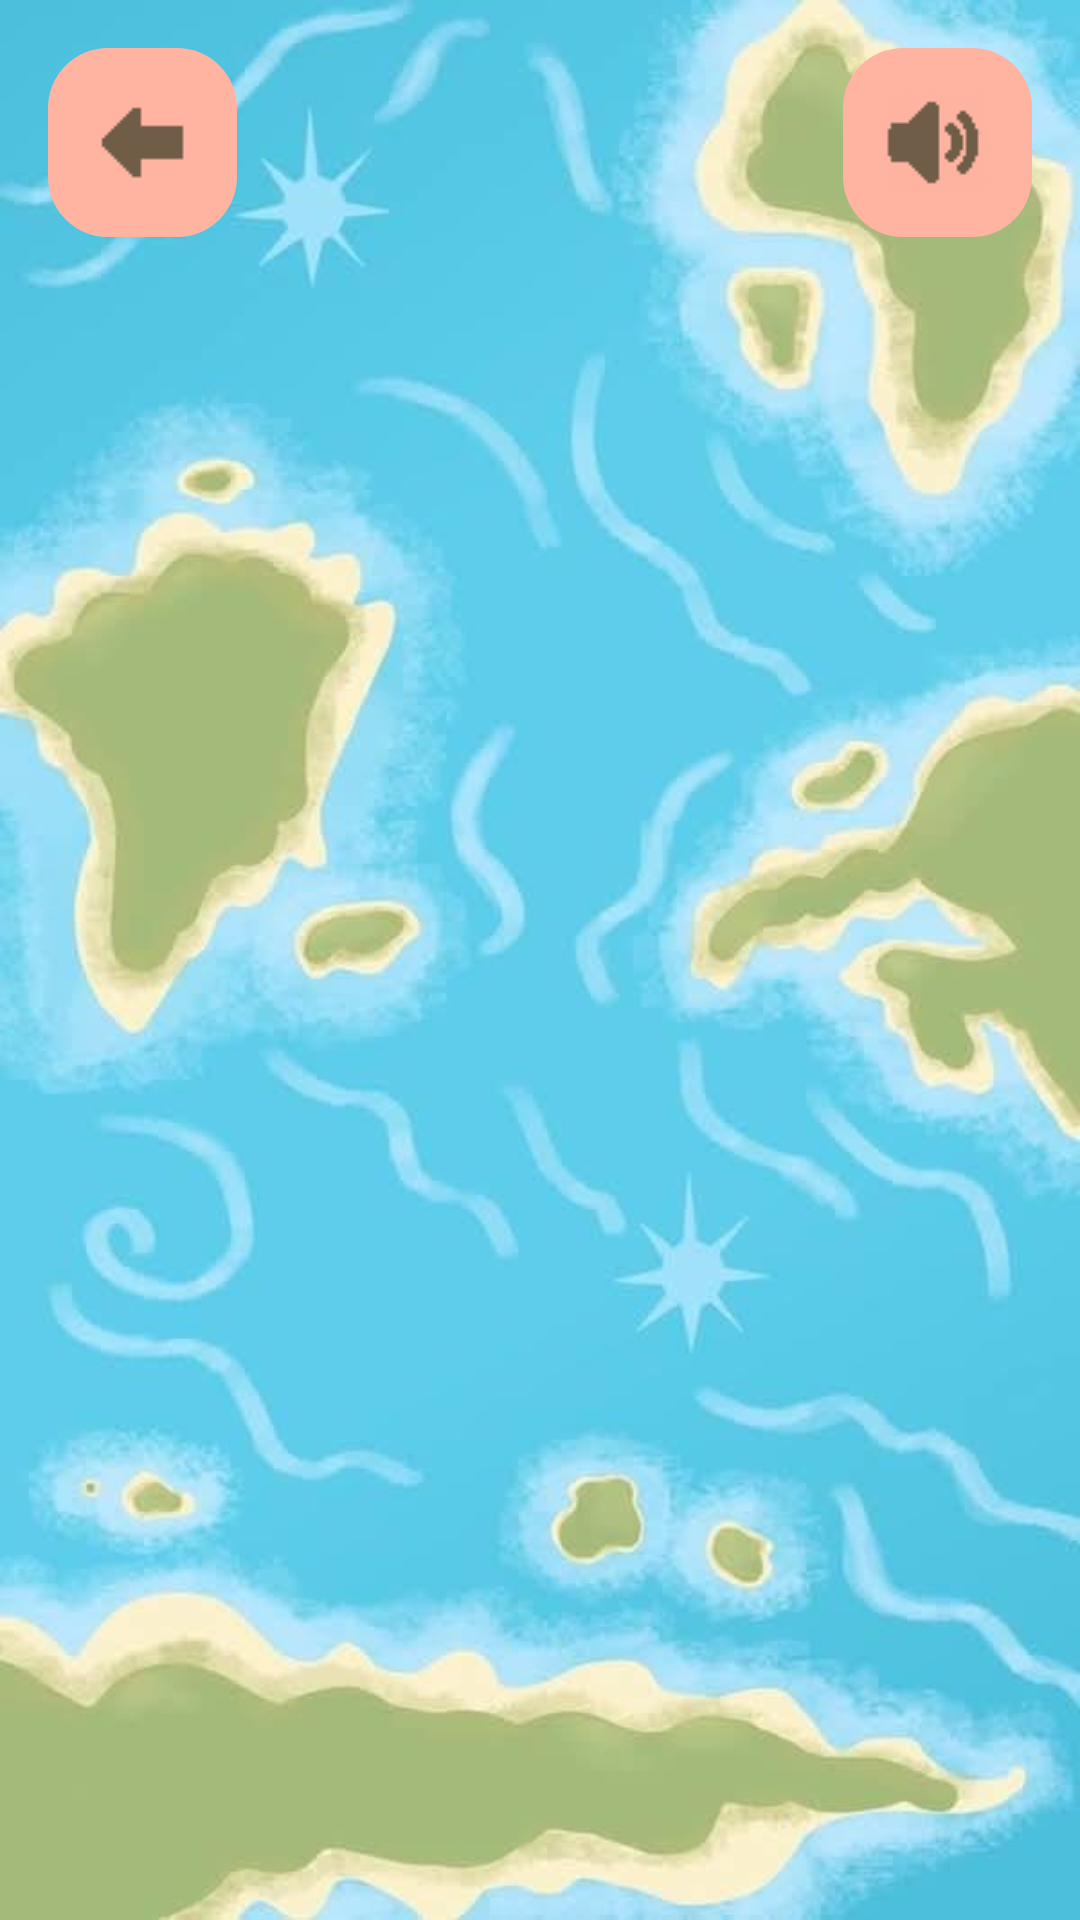

Point at icon controls on the screen. Image size 1080x1920, points as (x=x, y=y).
flecha: (x=142, y=142)
